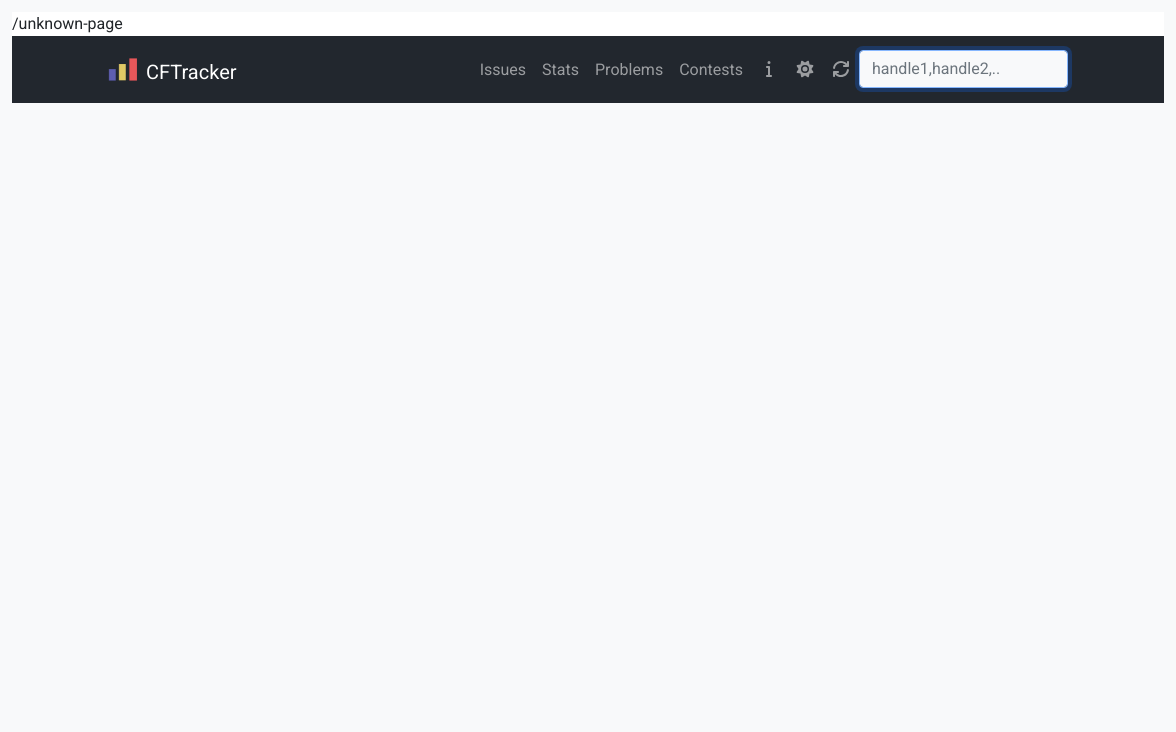
Scenario: unknown routes currently retain the menu and can recover through Problems
Click the link "Problems". click: coordinates (629, 69)
box: [595,60,663,79]
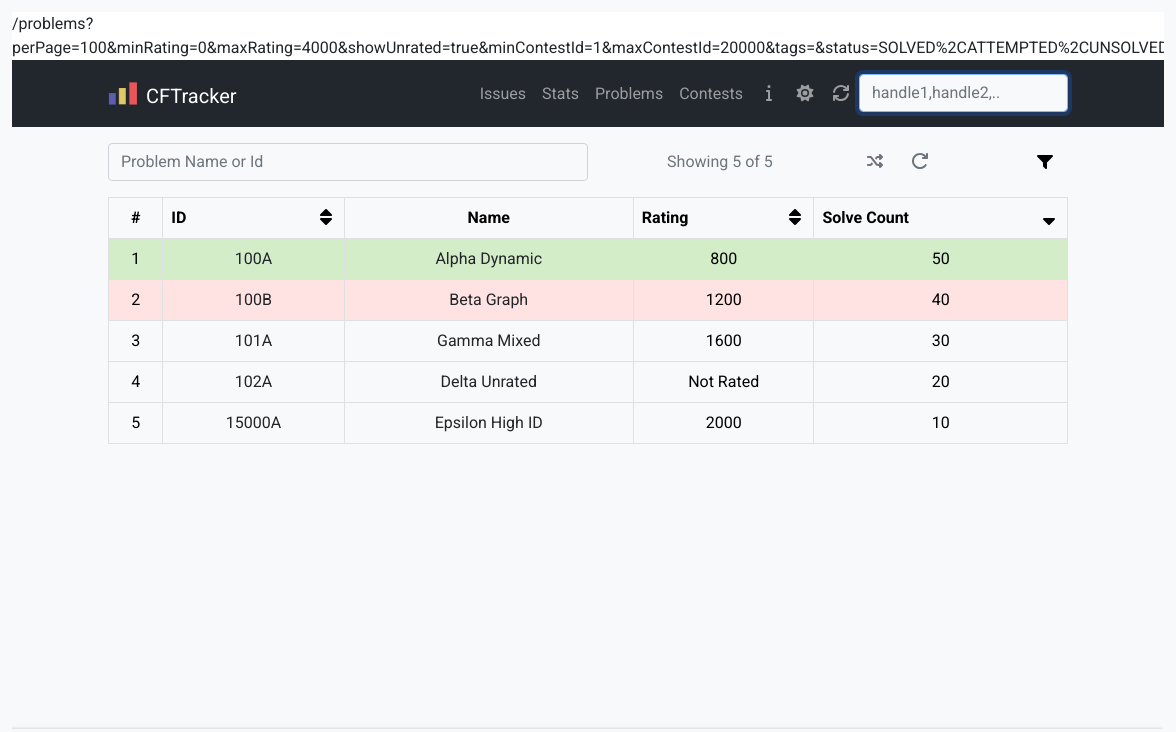
Expected: the field with placeholder "Problem Name or Id" is shown, [108,143,588,181]
